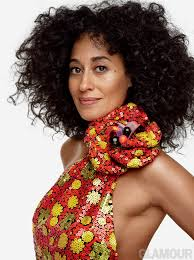black_female: (60, 20, 142, 136)
